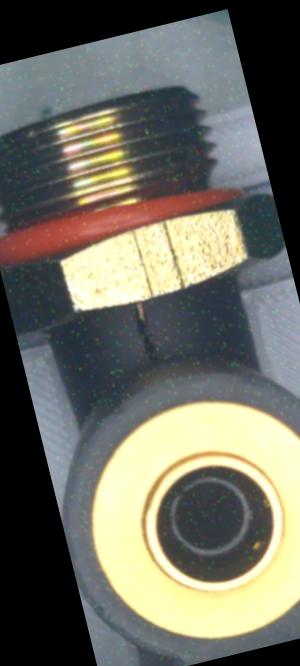craze: (128, 300, 163, 371)
